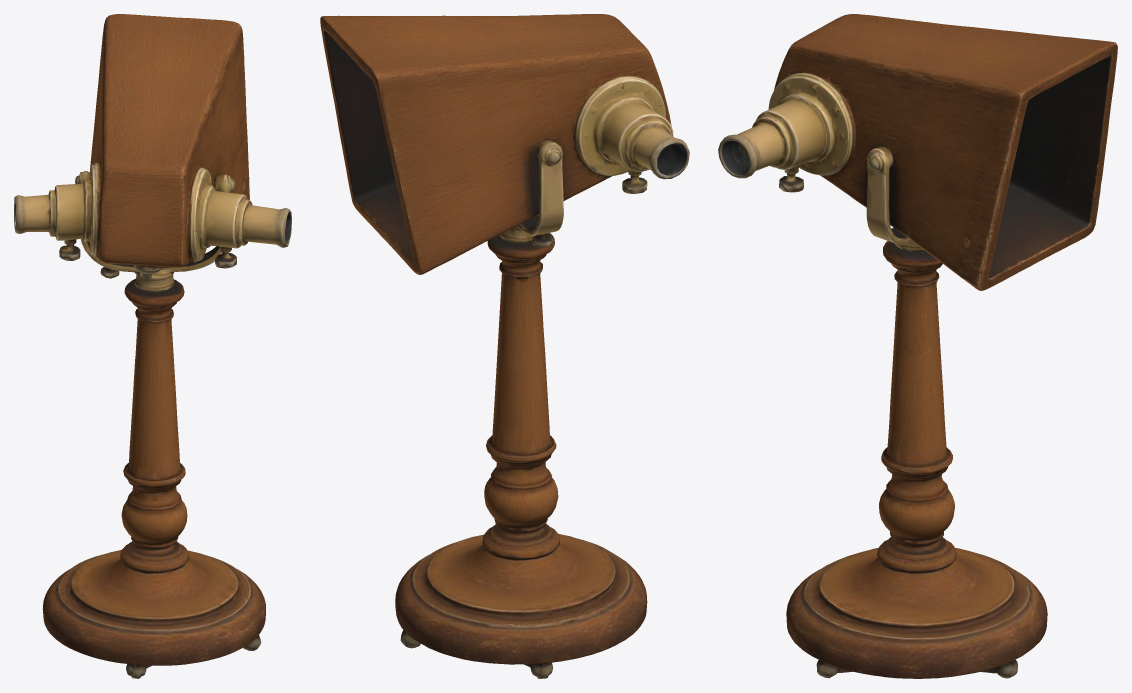
The model's file is ts_amesscope.glb.
3 views of the same model, side by side, from view 1: azimuth 30°, elevation 25°; view 2: azimuth 150°, elevation 25°; view 3: azimuth 270°, elevation 25° (orthographic). The views are drawn at different scales.
Visible parts, largest first — view 1: tripo_node_d8f99a48-9971-40c9-bb49-ae656e9bfe88; view 2: tripo_node_d8f99a48-9971-40c9-bb49-ae656e9bfe88; view 3: tripo_node_d8f99a48-9971-40c9-bb49-ae656e9bfe88.
Boxes of the visible parts, bbox=[...] form: tripo_node_d8f99a48-9971-40c9-bb49-ae656e9bfe88: bbox=[14, 14, 291, 678]; tripo_node_d8f99a48-9971-40c9-bb49-ae656e9bfe88: bbox=[320, 14, 689, 678]; tripo_node_d8f99a48-9971-40c9-bb49-ae656e9bfe88: bbox=[718, 14, 1117, 678].
Size of the model in its own units: 0.5276 by 1 by 0.5775.
Materials: 1 (1 with a texture image).
